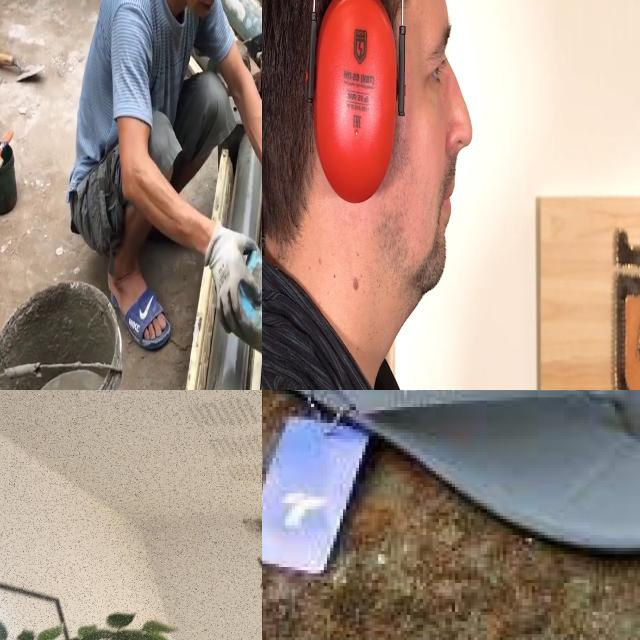Ear-protection: (306, 0, 405, 195)
No_Glasses: (414, 7, 460, 101)
Sandals: (262, 390, 640, 614), (105, 245, 173, 348)
hand_glove: (202, 204, 262, 336)
person: (262, 0, 477, 390)
